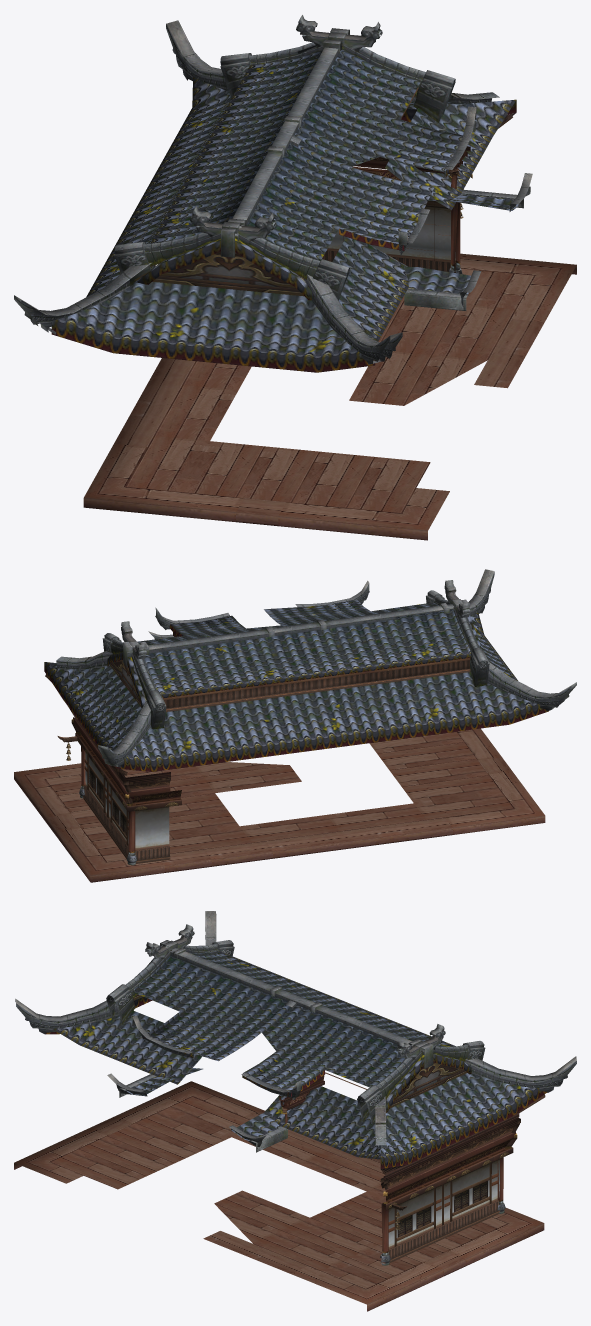
File: S2_Build_XSC023_H1.FBX
3 views of the same model, one above another, from view 1: azimuth 30°, elevation 25°; view 2: azimuth 150°, elevation 25°; view 3: azimuth 270°, elevation 25° (orthographic). The views are drawn at different scales.
Parts seen in each view (by area): view 1: S2_Build_XSC023_H1; view 2: S2_Build_XSC023_H1; view 3: S2_Build_XSC023_H1.
Part boxes in pixels (bbox=[...]): S2_Build_XSC023_H1: bbox=[14, 15, 576, 540]; S2_Build_XSC023_H1: bbox=[14, 569, 576, 882]; S2_Build_XSC023_H1: bbox=[14, 911, 576, 1311].
Size of the model in its own units: 7496 by 2983 by 7414.
